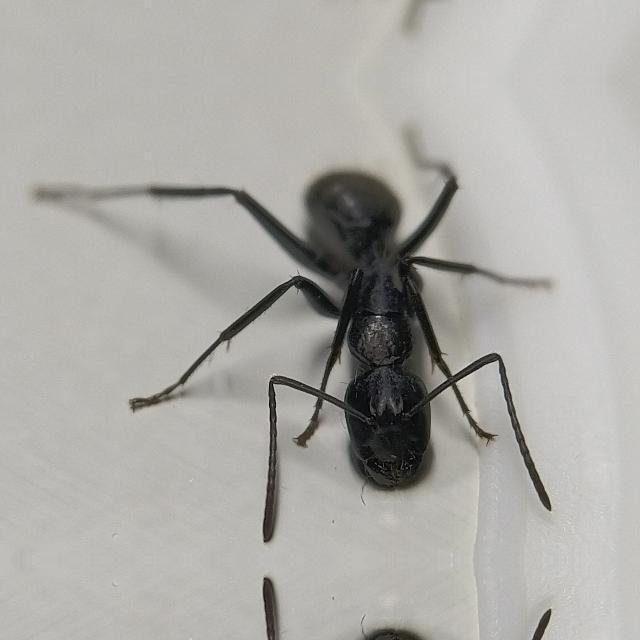Camponotus: (211, 131, 571, 539)
